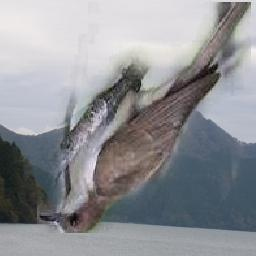Cuckoo: (37, 3, 251, 234)
